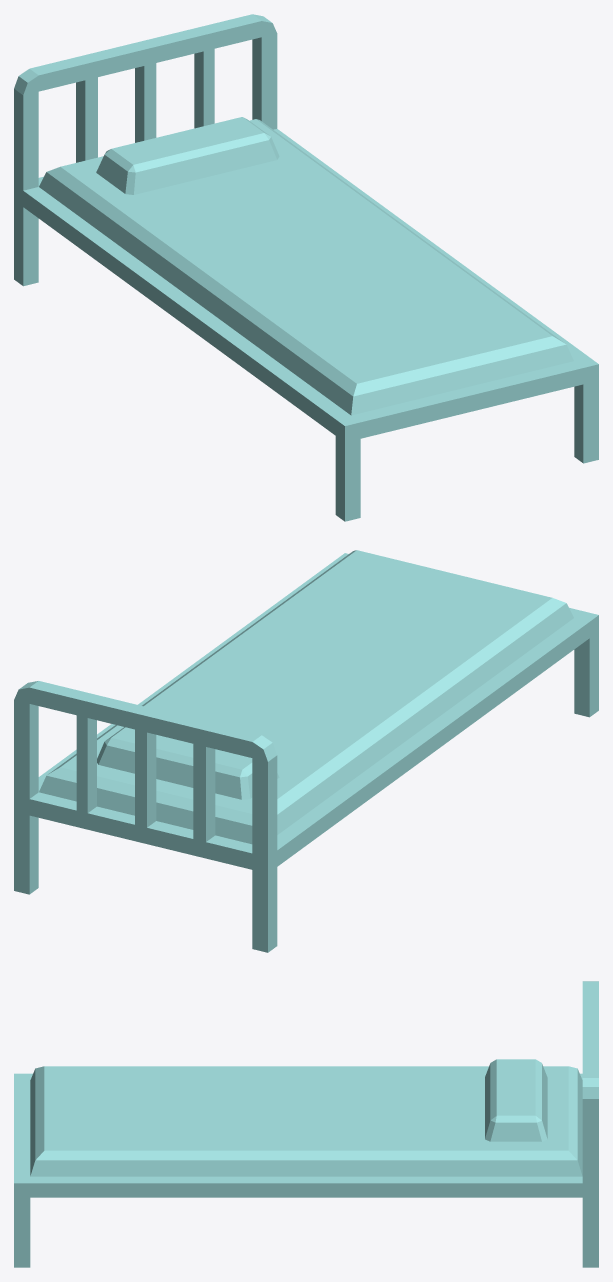
Rendered from bed.fbx.
The picture shows the model from 3 angles, top to bottom: view 1: azimuth 30°, elevation 25°; view 2: azimuth 150°, elevation 25°; view 3: azimuth 270°, elevation 25°; orthographic projection. The views are drawn at different scales.
Parts seen in each view (by area): view 1: bed; view 2: bed; view 3: bed.
Boxes of the visible parts, x1,y1,x2,y2 form: bed: (14, 14, 598, 521); bed: (14, 550, 598, 952); bed: (14, 981, 598, 1267).
Bounding box in the file's own units: 5.11 × 3.98 × 11.53.
